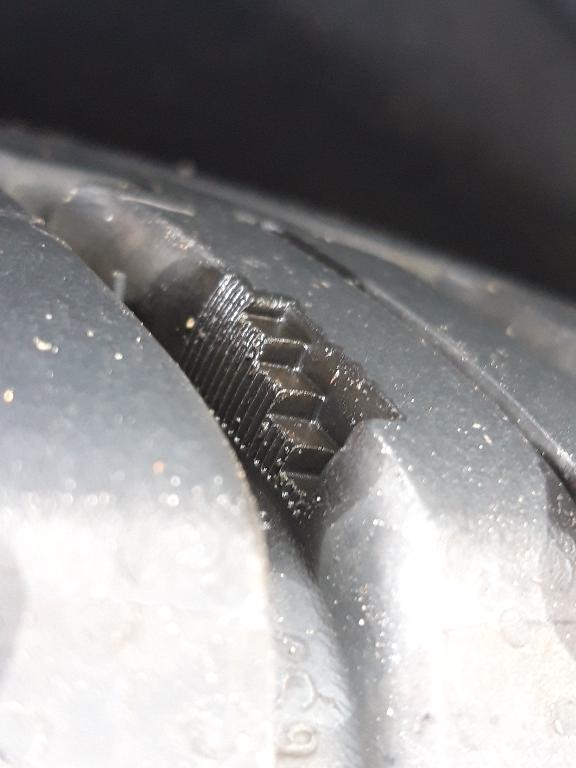temoin:90: (162, 264, 418, 536)
